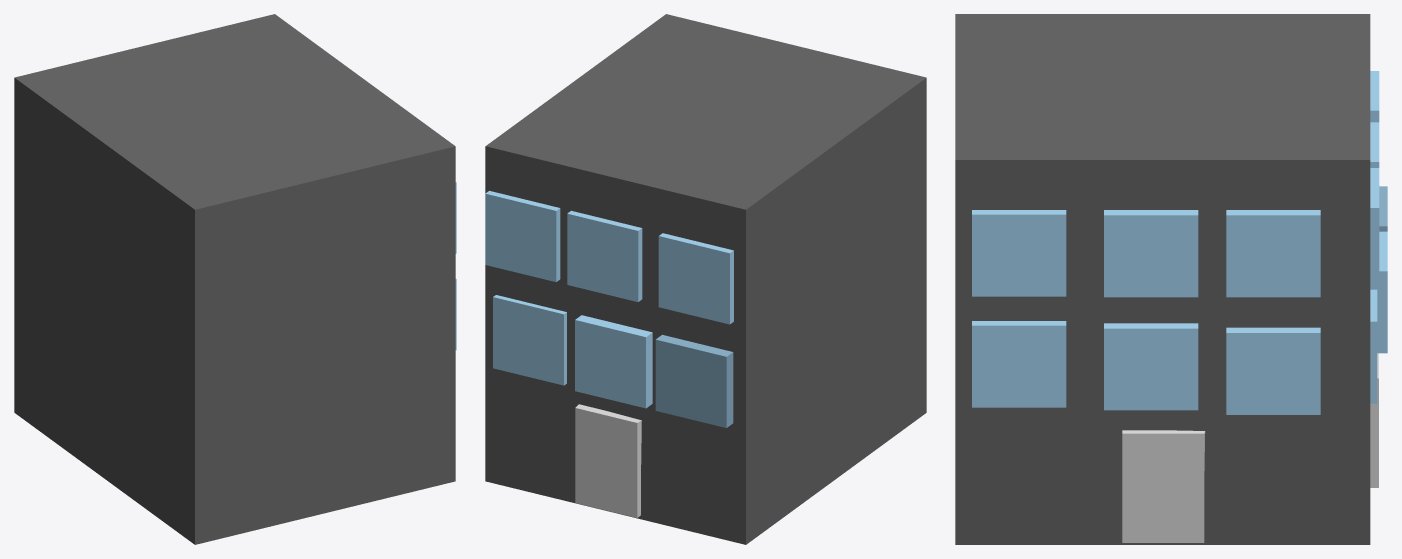
The model's file is Building 2.fbx.
The picture shows the model from 3 angles, left to right: view 1: azimuth 30°, elevation 25°; view 2: azimuth 150°, elevation 25°; view 3: azimuth 270°, elevation 25°; orthographic projection. The views are drawn at different scales.
Visible parts, largest first — view 1: Cube; view 2: Cube, Cube.008, Cube.011, Cube.010, Cube.014, Cube.007, Cube.015, Cube.009; view 3: Cube, Cube.001, Cube.004, Cube.013, Cube.003, Cube.006, Cube.002, Cube.005, Cube.010, Cube.007, Cube.009, Cube.008 (+1 smaller).
Part boxes in pixels (x1=…): Cube: x1=14, y1=14, x2=455, y2=544; Cube: x1=485, y1=14, x2=926, y2=544; Cube.008: x1=575, y1=404, x2=641, y2=517; Cube.011: x1=655, y1=334, x2=733, y2=427; Cube.010: x1=575, y1=315, x2=652, y2=408; Cube.014: x1=567, y1=210, x2=642, y2=301; Cube.007: x1=485, y1=190, x2=560, y2=281; Cube.015: x1=658, y1=233, x2=733, y2=324; Cube.009: x1=493, y1=295, x2=566, y2=385; Cube: x1=955, y1=14, x2=1370, y2=544; Cube.001: x1=1122, y1=430, x2=1205, y2=542; Cube.004: x1=1226, y1=327, x2=1320, y2=414; Cube.013: x1=1226, y1=210, x2=1320, y2=297; Cube.003: x1=1104, y1=210, x2=1198, y2=297; Cube.006: x1=1104, y1=323, x2=1198, y2=410; Cube.002: x1=972, y1=321, x2=1066, y2=407; Cube.005: x1=972, y1=210, x2=1066, y2=296; Cube.010: x1=1377, y1=231, x2=1387, y2=353; Cube.007: x1=1370, y1=168, x2=1379, y2=289; Cube.009: x1=1370, y1=289, x2=1377, y2=403; Cube.008: x1=1370, y1=353, x2=1378, y2=487.
Size of the model in its own units: 4724 by 5603 by 5706.
